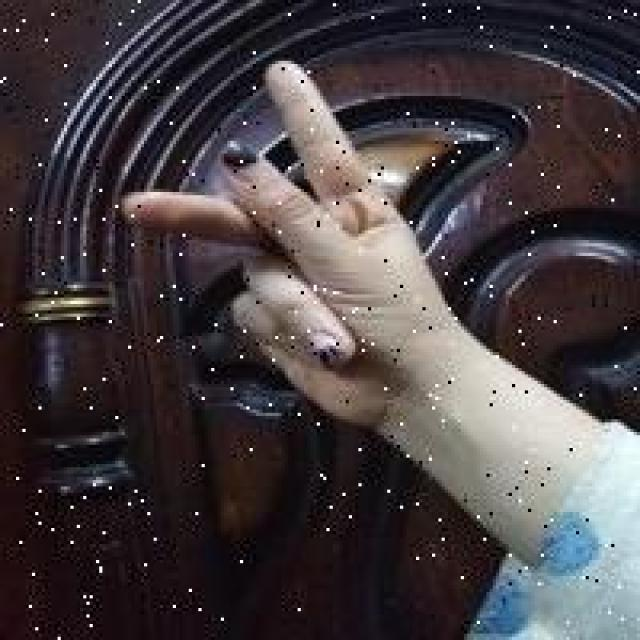K: (112, 59, 451, 430)
